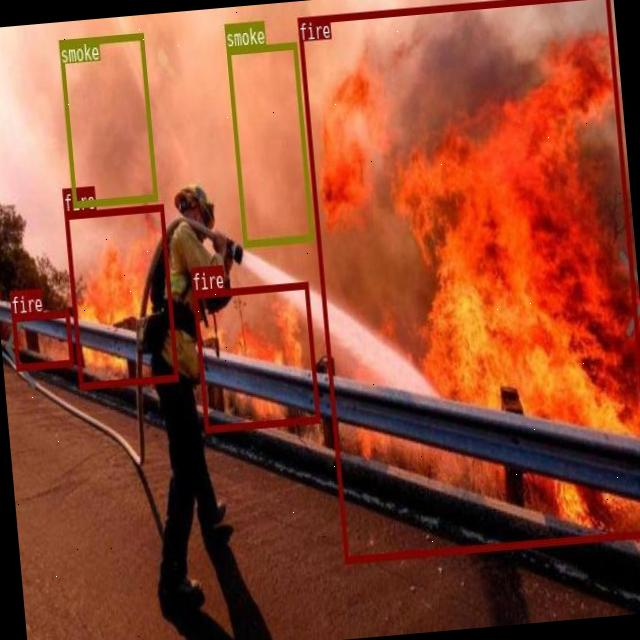fire: (296, 0, 640, 562), (64, 202, 178, 388), (192, 280, 320, 430), (10, 310, 73, 370)
smoke: (226, 40, 313, 245), (57, 32, 156, 206)
